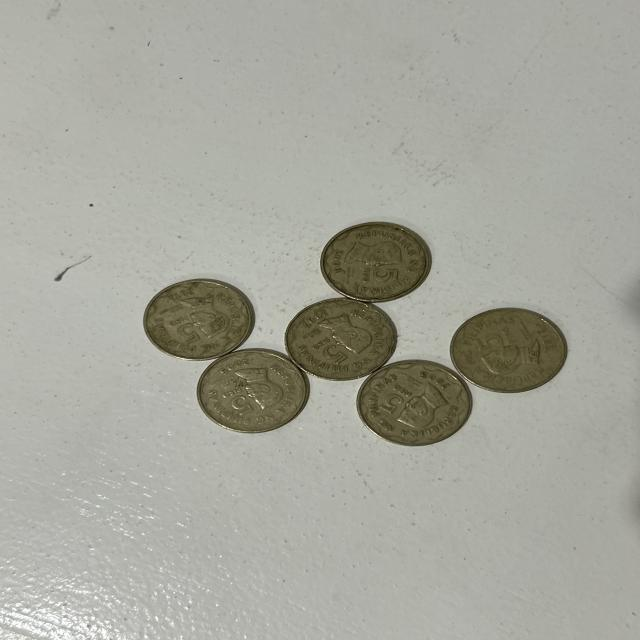5_Old_Front: (311, 336, 354, 372), (212, 385, 253, 420), (474, 326, 519, 356), (375, 379, 412, 415), (164, 313, 208, 342), (360, 268, 410, 287)
